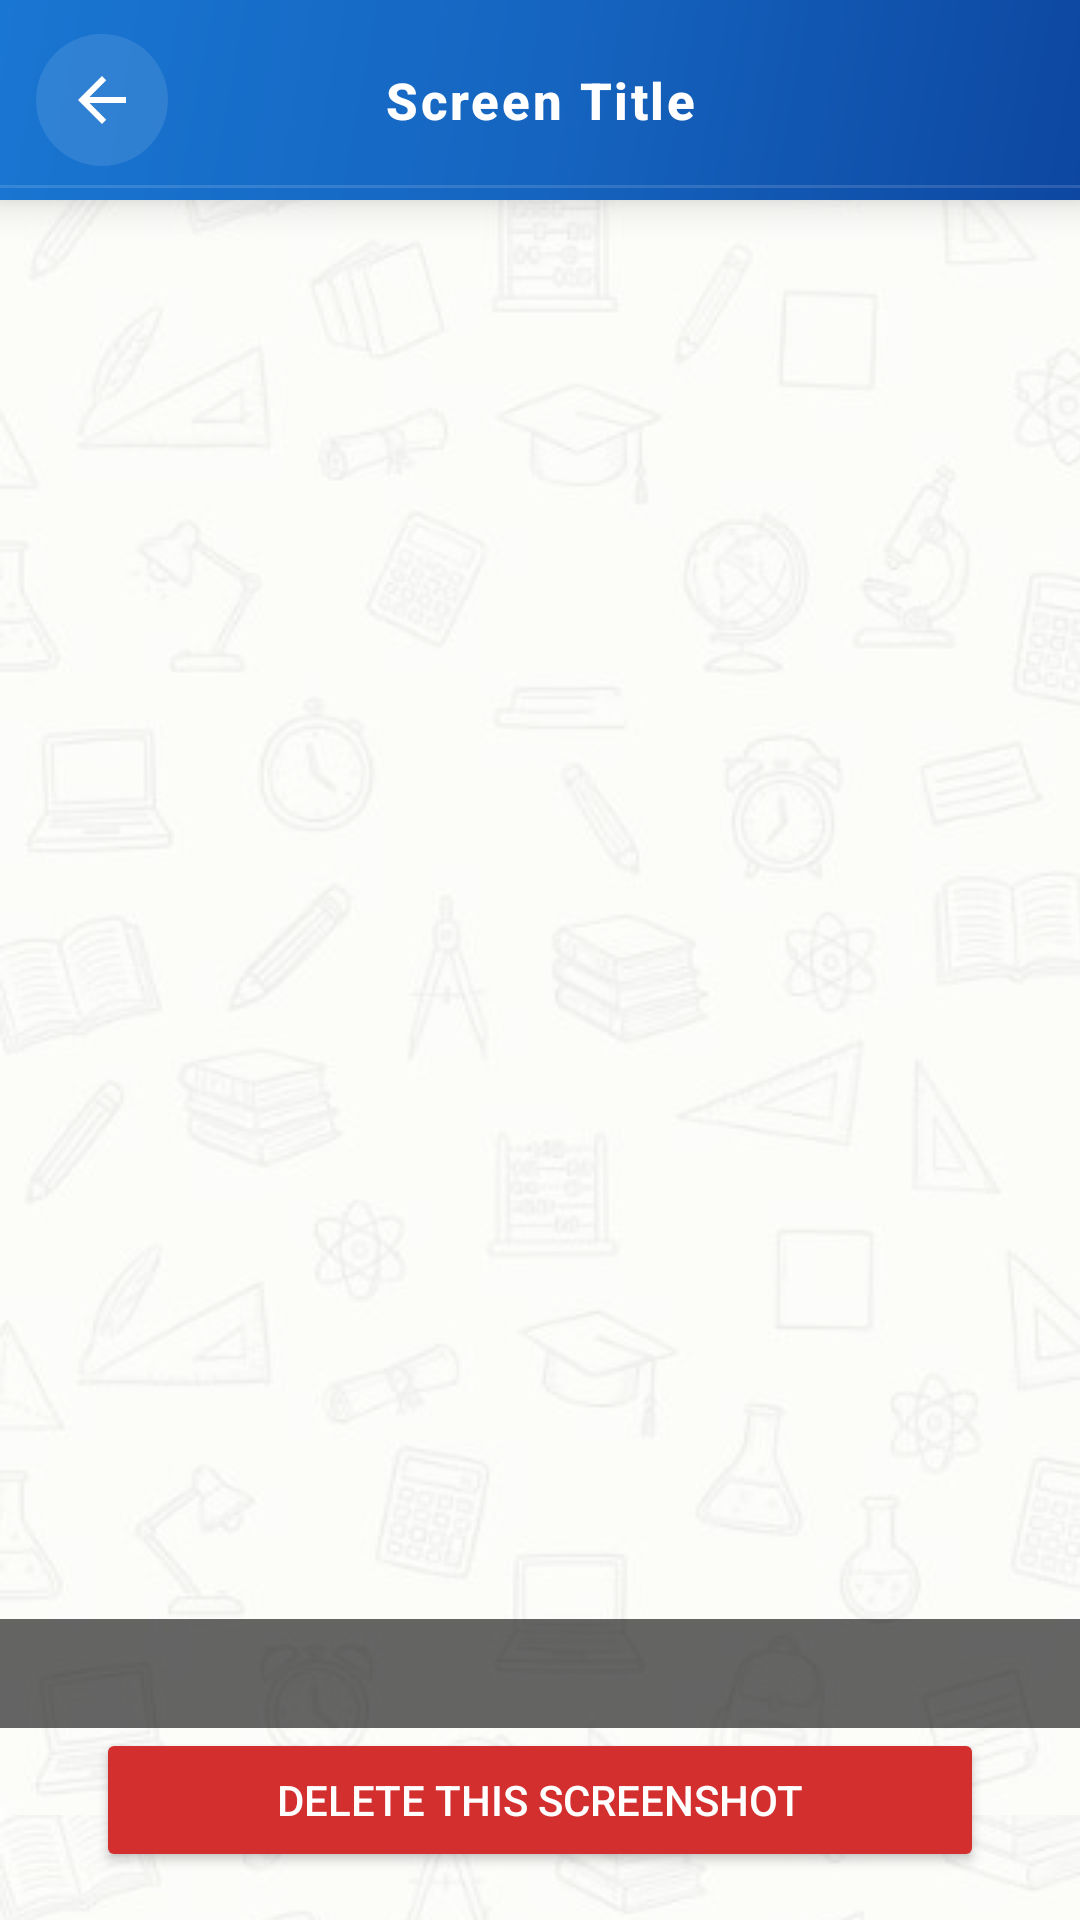

Where to tap for icons on this 1080px x 1920px app screen, as (x=x, y=y):
Back: (x=102, y=100)
